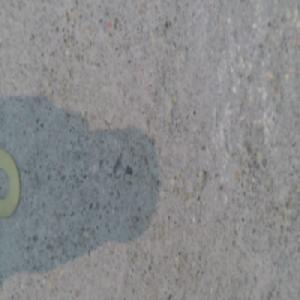Washer: (1, 150, 24, 215)
